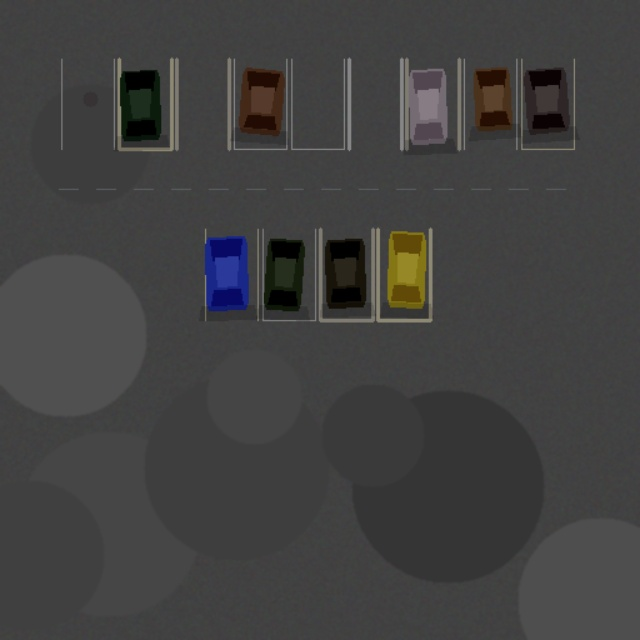space-empty: (61, 59, 114, 149), (176, 59, 229, 149), (291, 59, 344, 149), (349, 59, 401, 149)
space-occupied: (320, 229, 373, 320), (377, 229, 430, 320), (406, 59, 459, 149), (521, 59, 574, 149), (205, 229, 257, 320), (263, 229, 315, 320), (119, 59, 171, 149), (234, 59, 286, 149), (464, 59, 516, 149)
